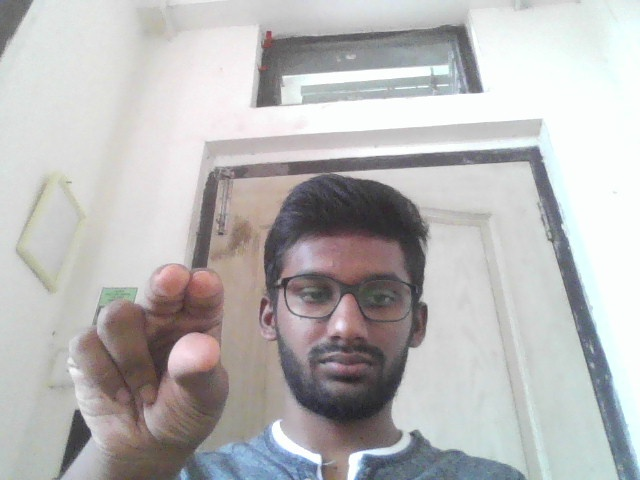No: (60, 262, 234, 465)
